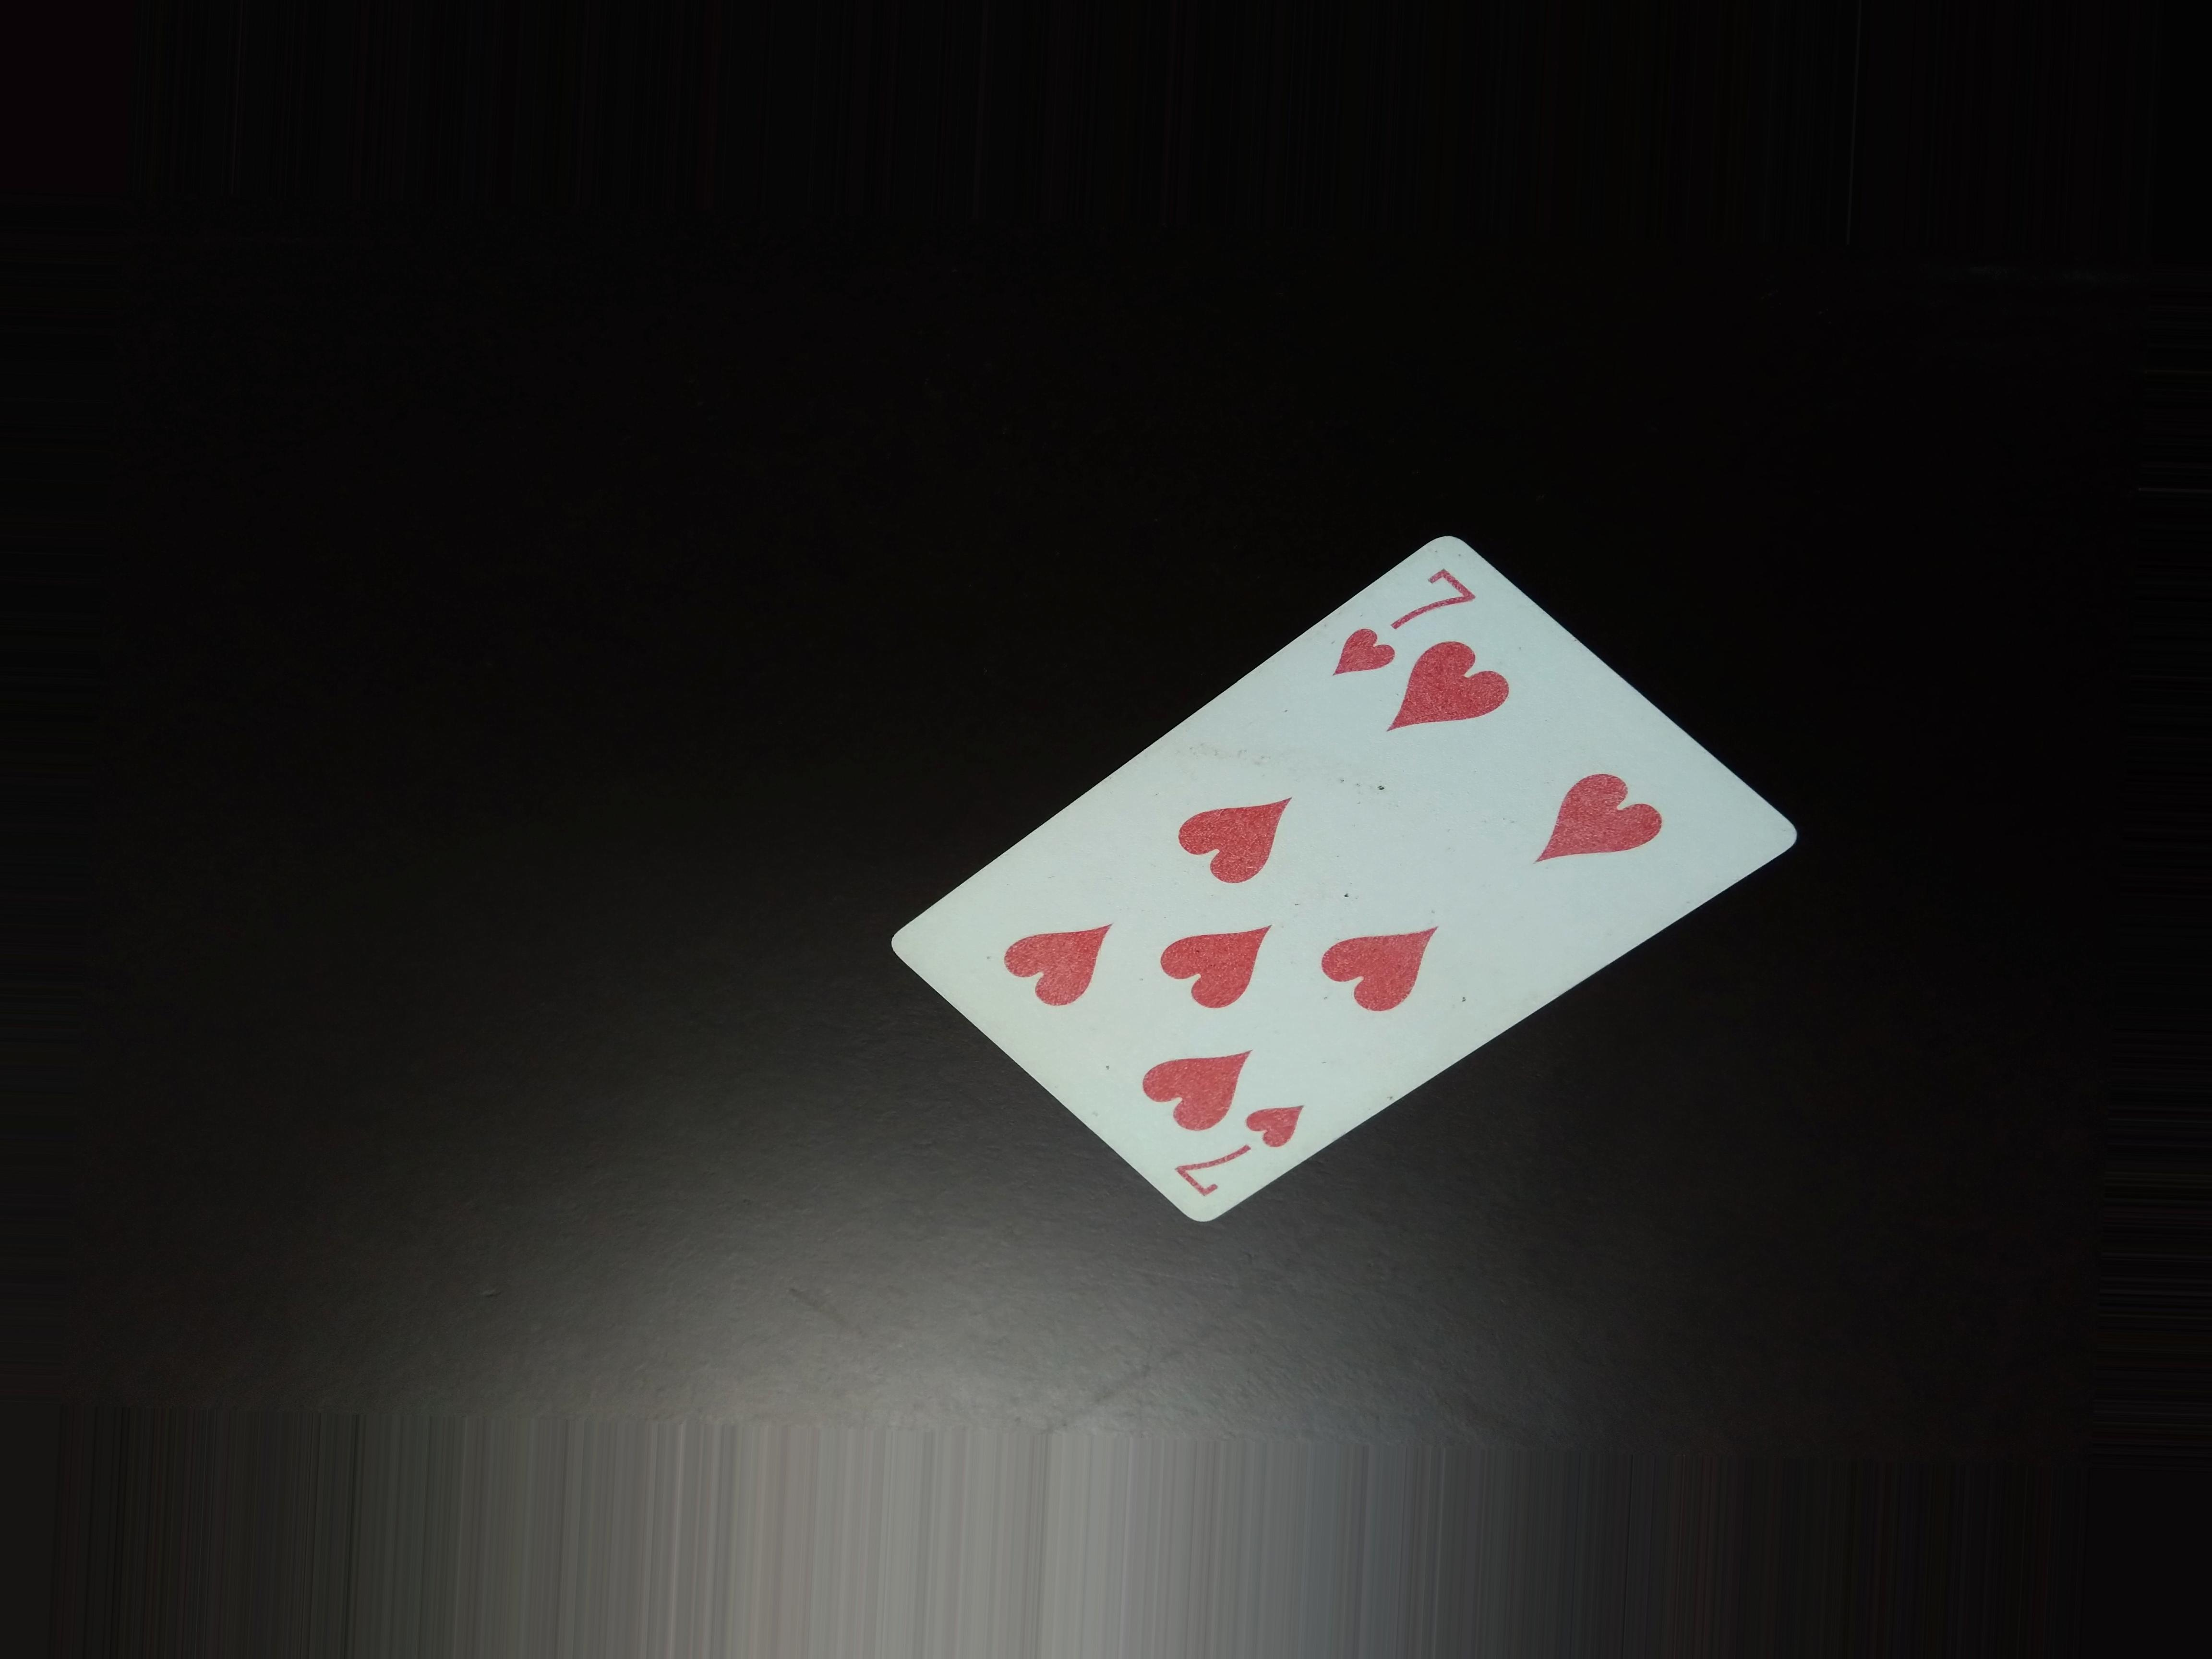7H: (1179, 1091, 1322, 1197)
